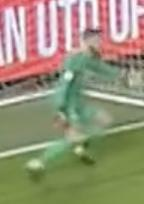goalkeeper: (12, 22, 136, 184)
